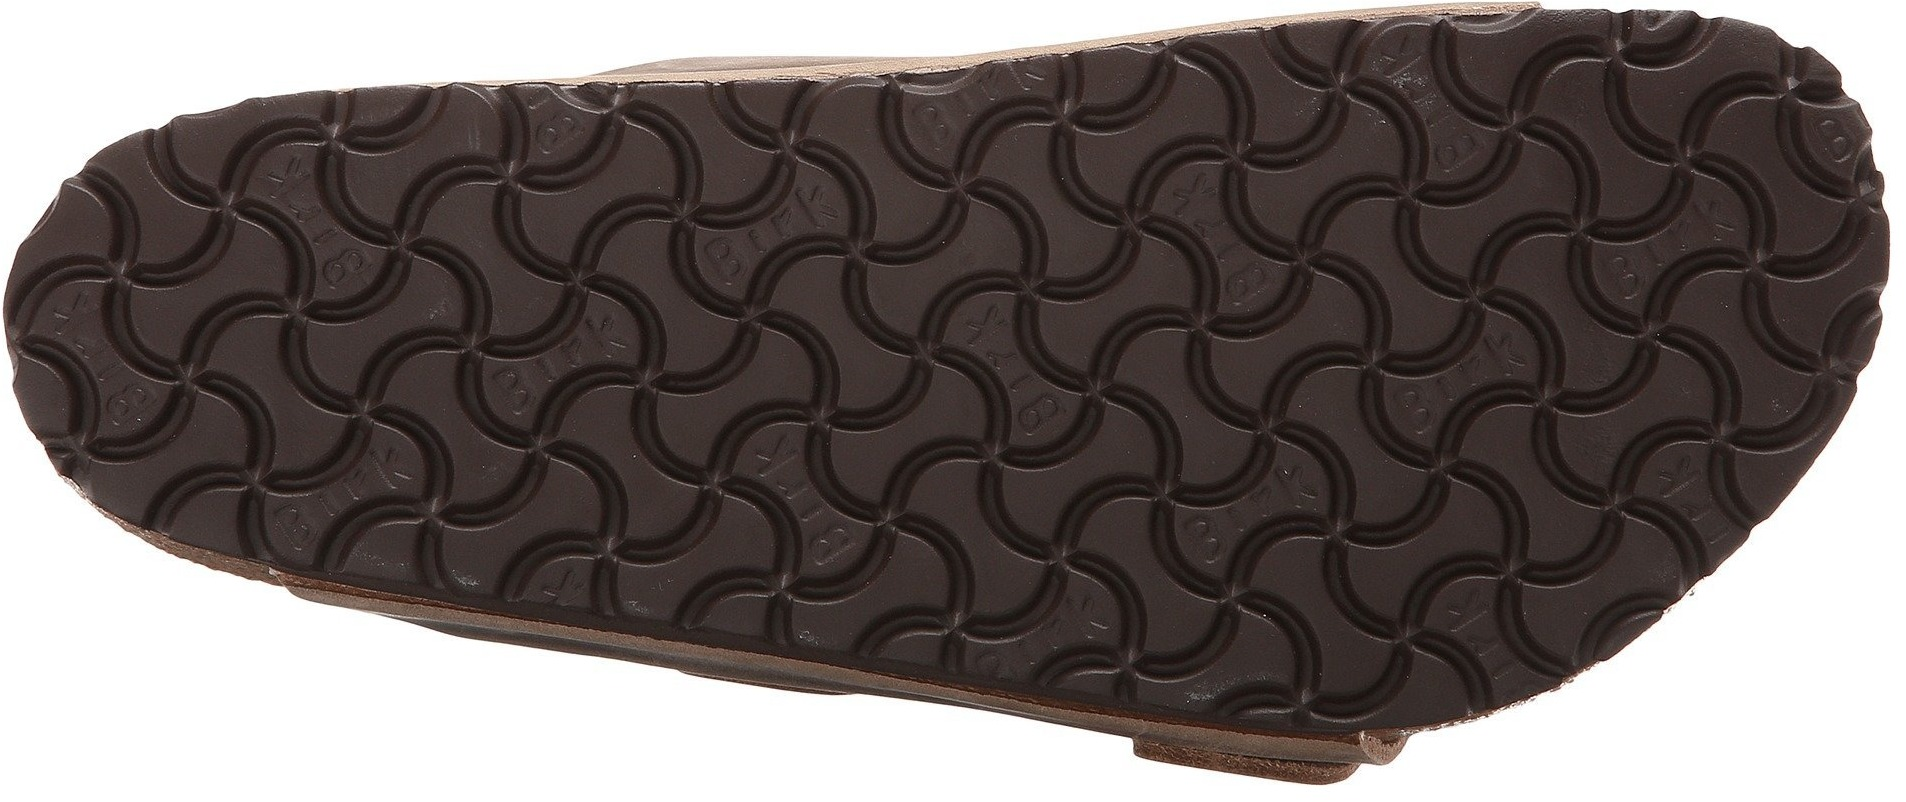bowtie: (695, 87, 1156, 622), (1171, 51, 1598, 435), (293, 103, 682, 471), (1571, 60, 1870, 363), (1171, 450, 1476, 711), (47, 216, 274, 434), (1488, 453, 1658, 628), (494, 474, 652, 614), (1675, 355, 1812, 491)
text: (695, 87, 1156, 622), (1171, 51, 1598, 435), (293, 103, 682, 471), (1571, 60, 1870, 363), (1171, 450, 1476, 711), (47, 216, 274, 434), (1488, 453, 1658, 628)
